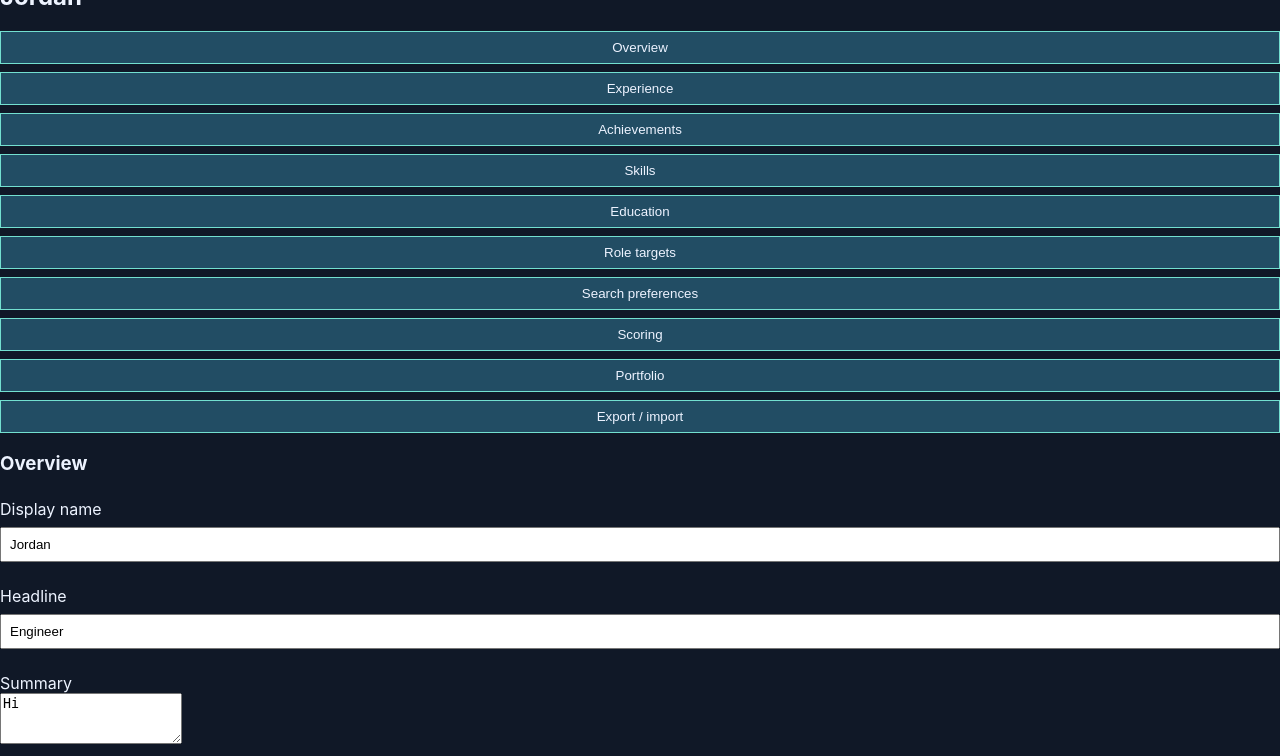
Test: profile editor › search preferences load from the API and save every field type
Click the tab "Search preferences". click: click(640, 293)
box: [0,277,1279,310]
(page scrolled)
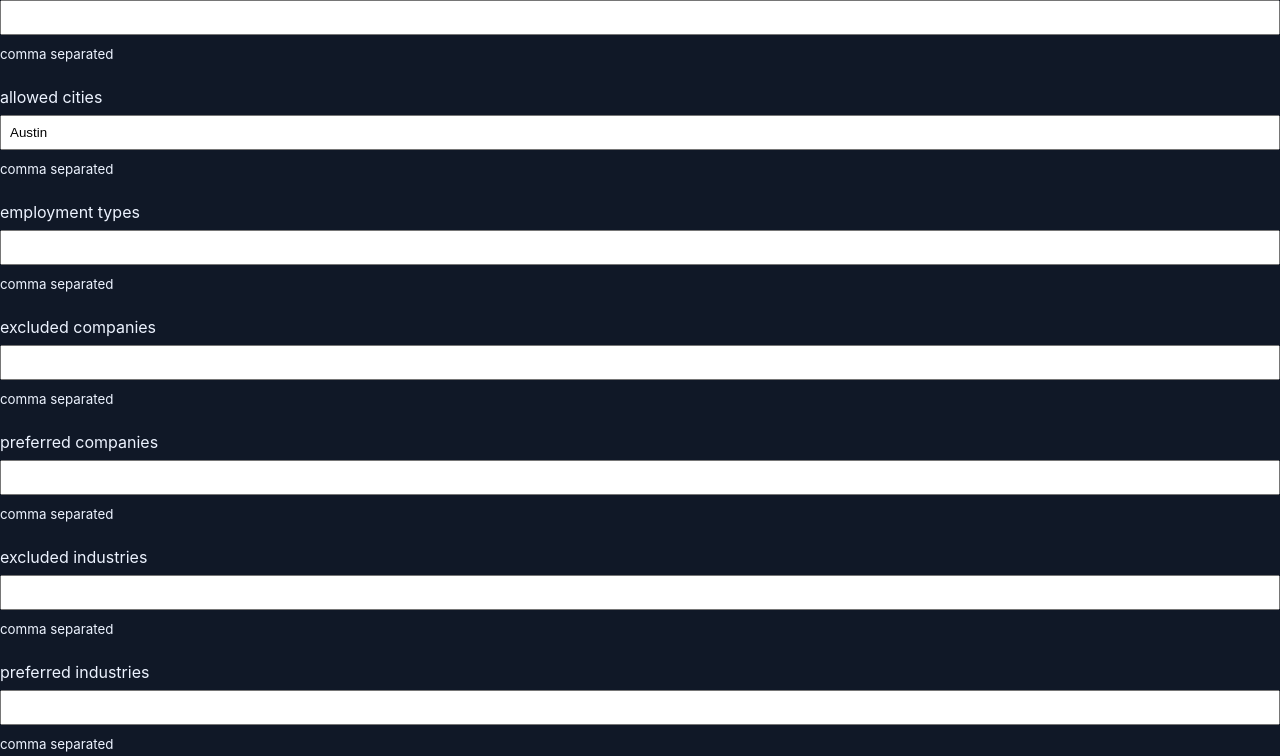
Expected: the field showing "Austin" is shown, [0,114,1279,150]
Type "Acme, Initech" into the field labelled "excluded companies". click: (640, 362)
box: [0,344,1279,380]
(page scrolled)
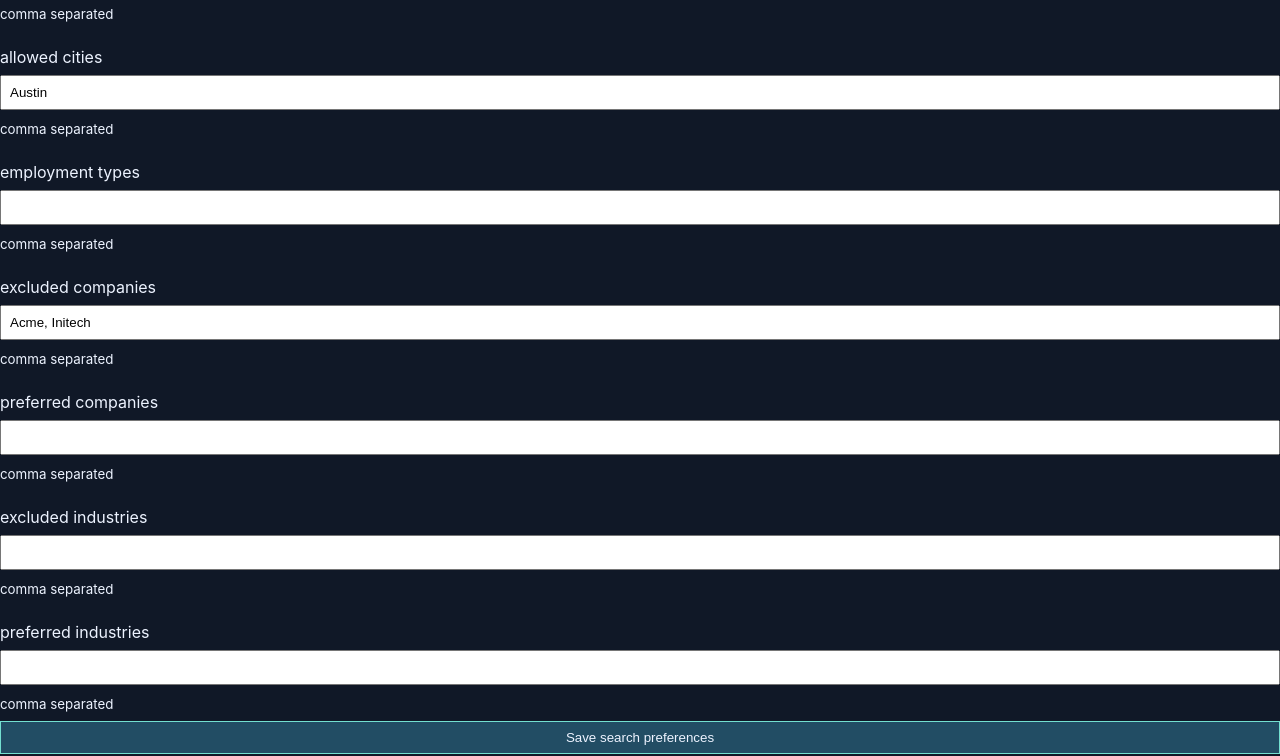
Click the button "Save search preferences". click: click(640, 737)
box: [0,720,1279,754]
(page scrolled)
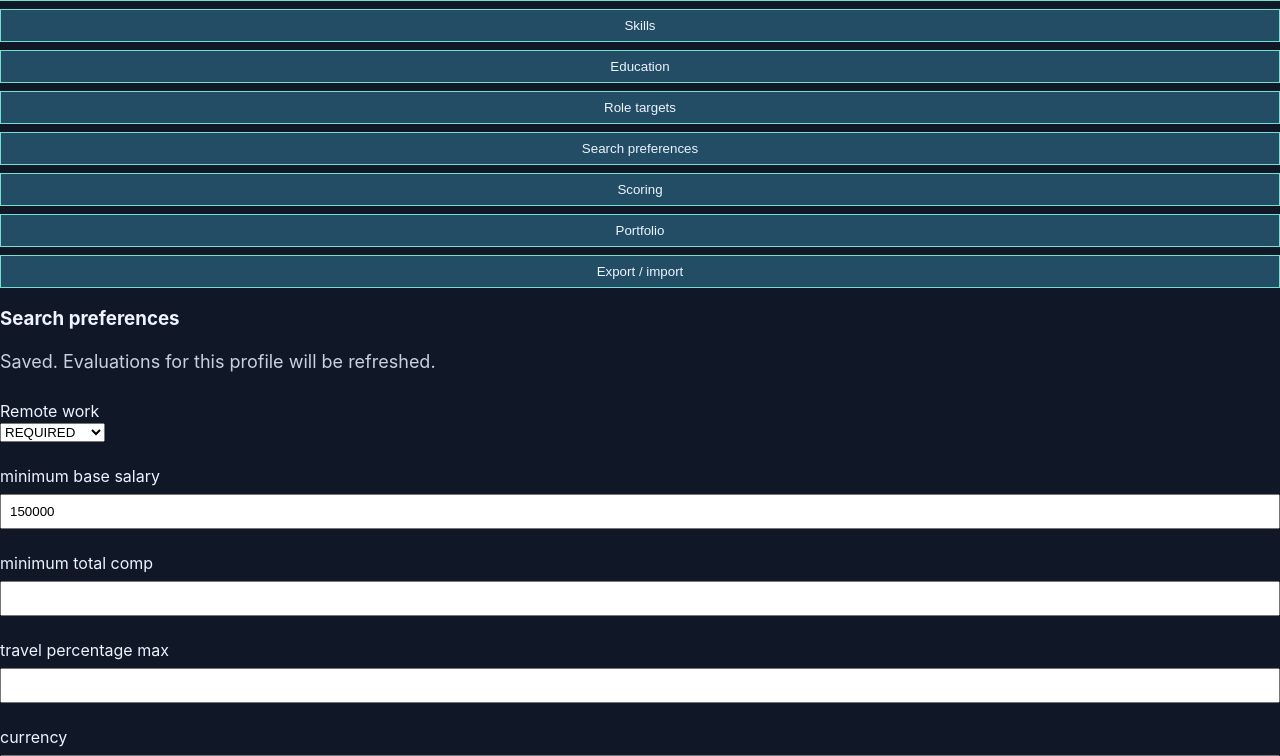
Expected: the text "Saved. Evaluations for this profile will be refreshed." is shown, [0,351,436,372]
